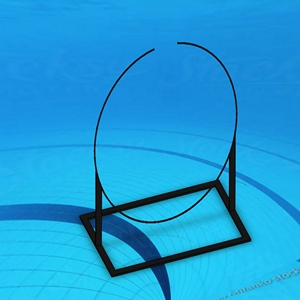circle: (79, 38, 252, 279)
